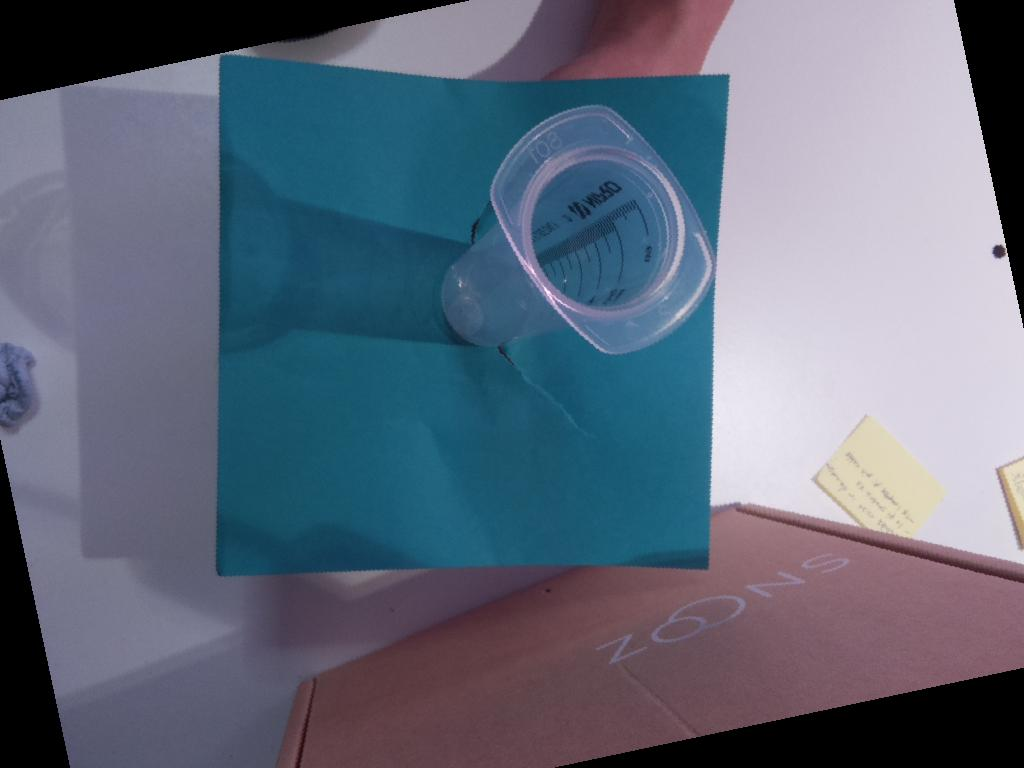clean: (488, 101, 717, 357)
